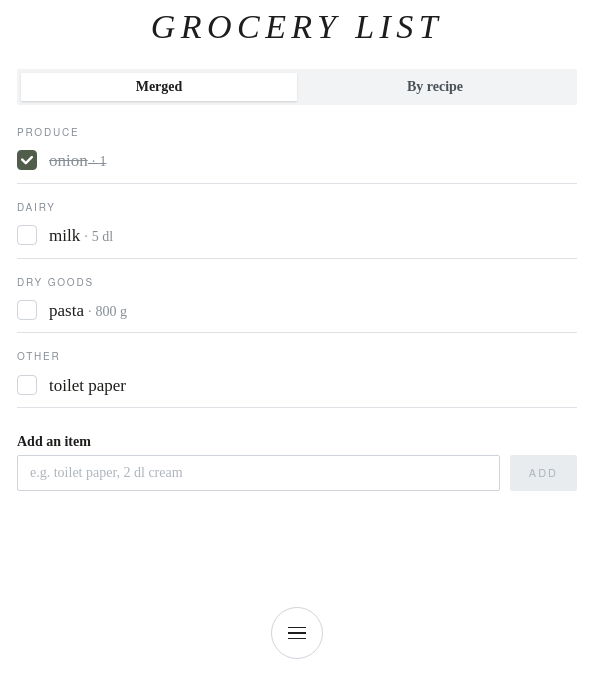
by recipe › each recipe's own lines, scaled, with the hand-added ones last
This screenshot has width=594, height=676.
Click the radio button labelled "By recipe": (435, 87) [407,79,463,94]
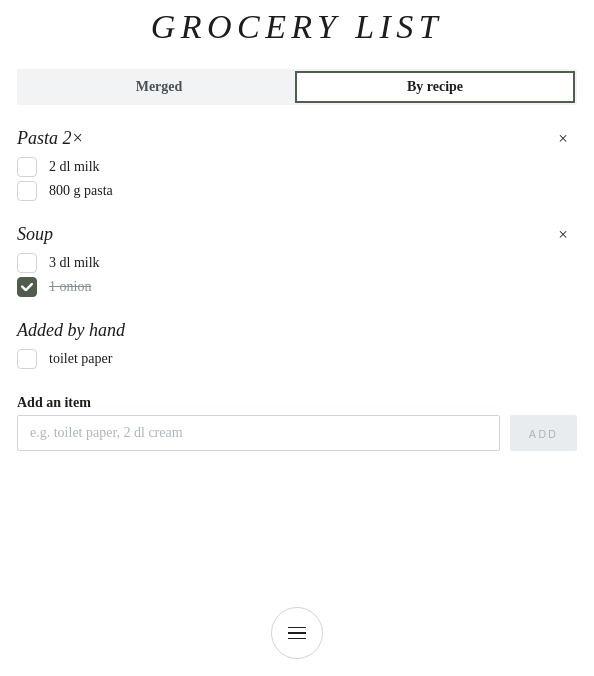
Now the checkbox labelled "2 dl milk" is not checked, box [17,157,37,177]
Now the checkbox labelled "800 g pasta" is shown, box [17,181,37,201]
Now the checkbox labelled "1 onion" is checked, box [17,277,37,297]
